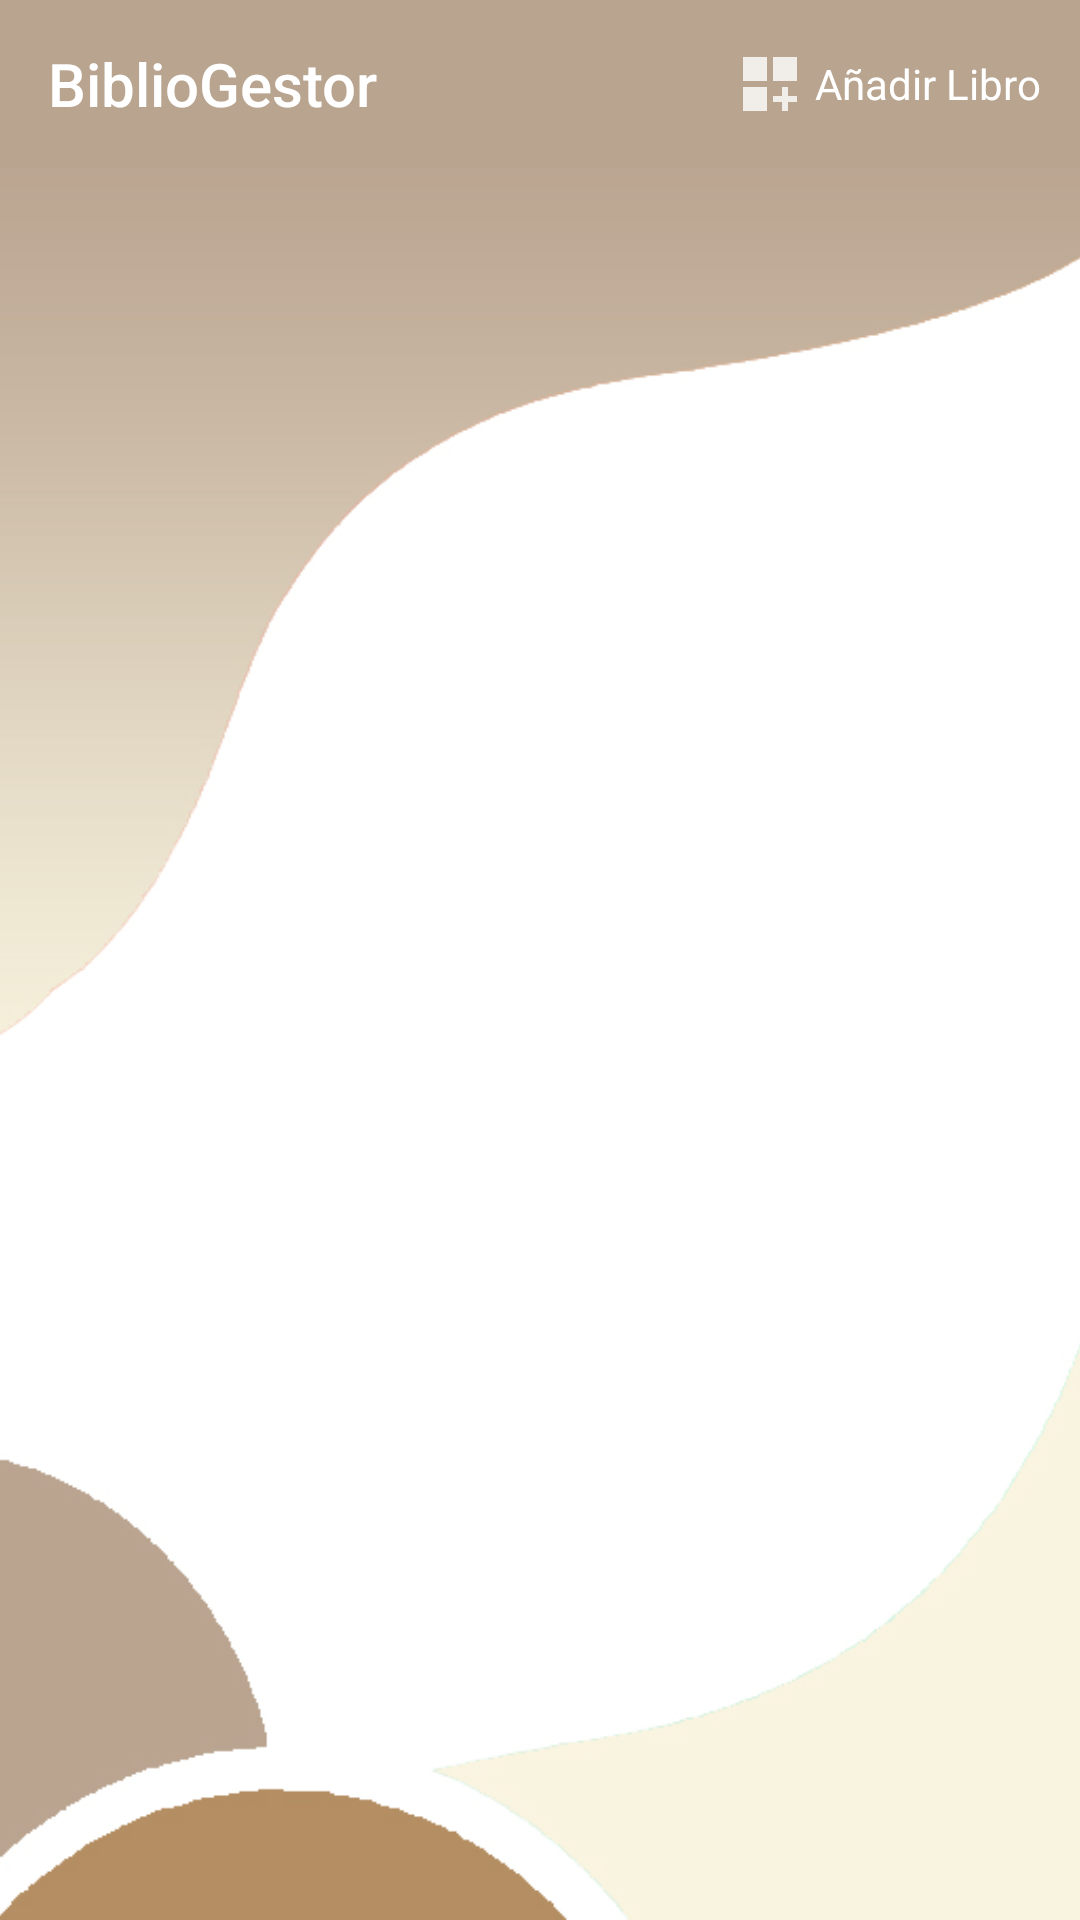

Icon bounding boxes for this 1080w x 1920h phone screenshot, format [left=x1, top=y1, right=x2, bottom=y2]:
anadir libro: [left=743, top=57, right=797, bottom=111]
